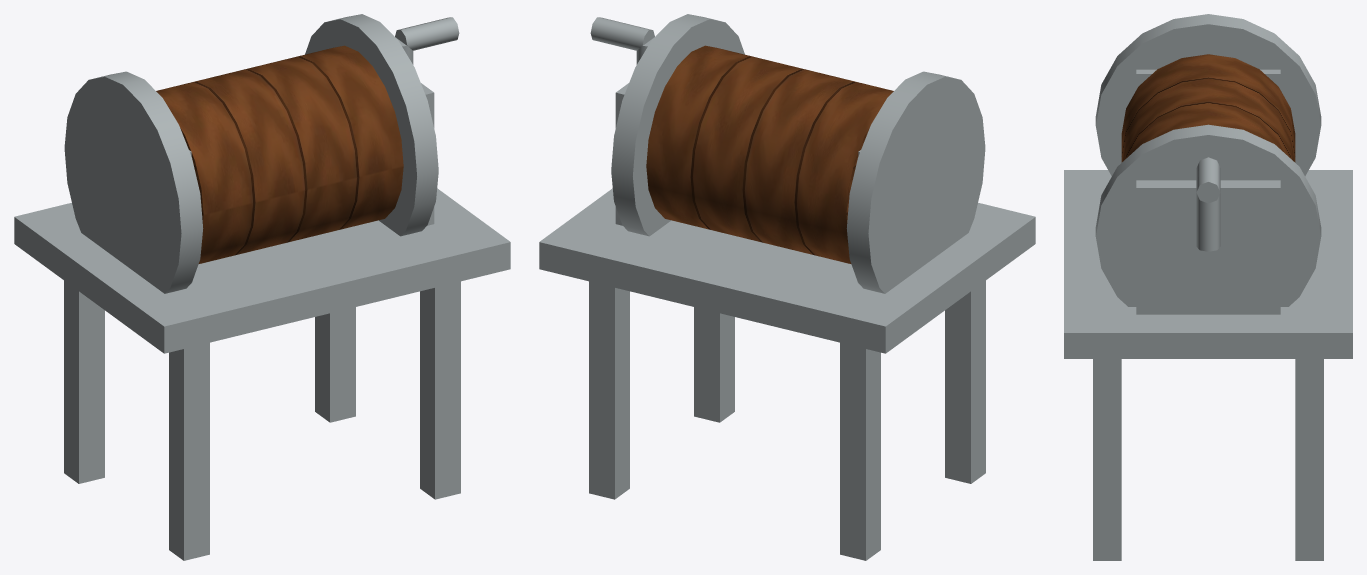
File: bunker-shelter-construction-laundry-wringer-49093cf0__23368.glb
The picture shows the model from 3 angles, left to right: view 1: azimuth 30°, elevation 25°; view 2: azimuth 150°, elevation 25°; view 3: azimuth 270°, elevation 25°; orthographic projection. The views are drawn at different scales.
Visible parts, largest first — view 1: laundry-wringer; view 2: laundry-wringer; view 3: laundry-wringer.
Part boxes in pixels (x1=…): laundry-wringer: x1=14, y1=14, x2=510, y2=560; laundry-wringer: x1=539, y1=14, x2=1035, y2=560; laundry-wringer: x1=1064, y1=14, x2=1352, y2=560.
Size of the model in its own units: 0.84 by 0.954 by 0.6001.
Materials: 2 (1 with a texture image).
